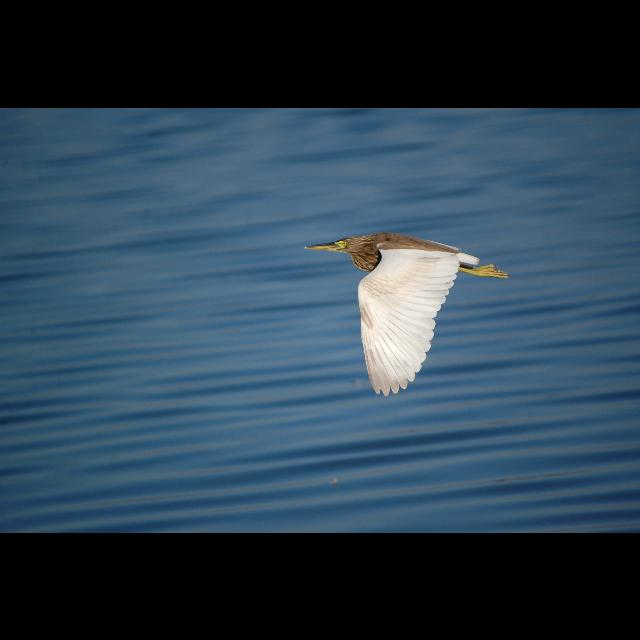heron: (302, 228, 510, 396)
